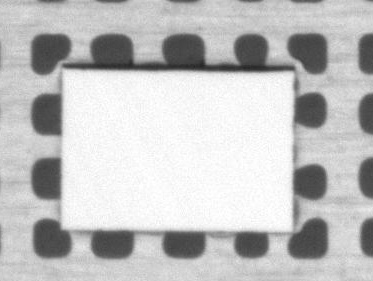DIE_BROKEN: (64, 61, 295, 73)
